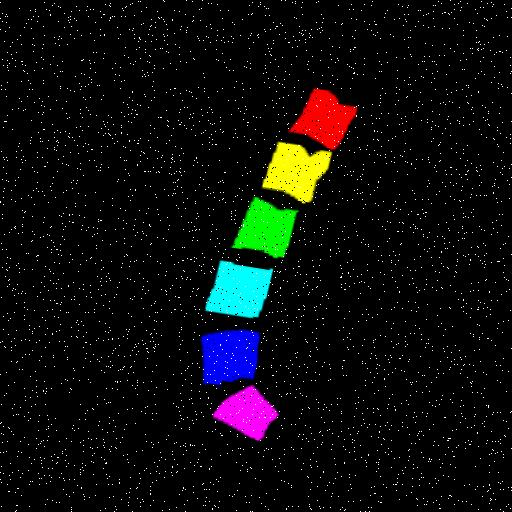L1: (291, 88, 358, 149)
L2: (265, 142, 333, 202)
L3: (236, 198, 300, 257)
L4: (210, 260, 277, 317)
L5: (208, 330, 264, 384)
S1: (221, 387, 284, 439)
